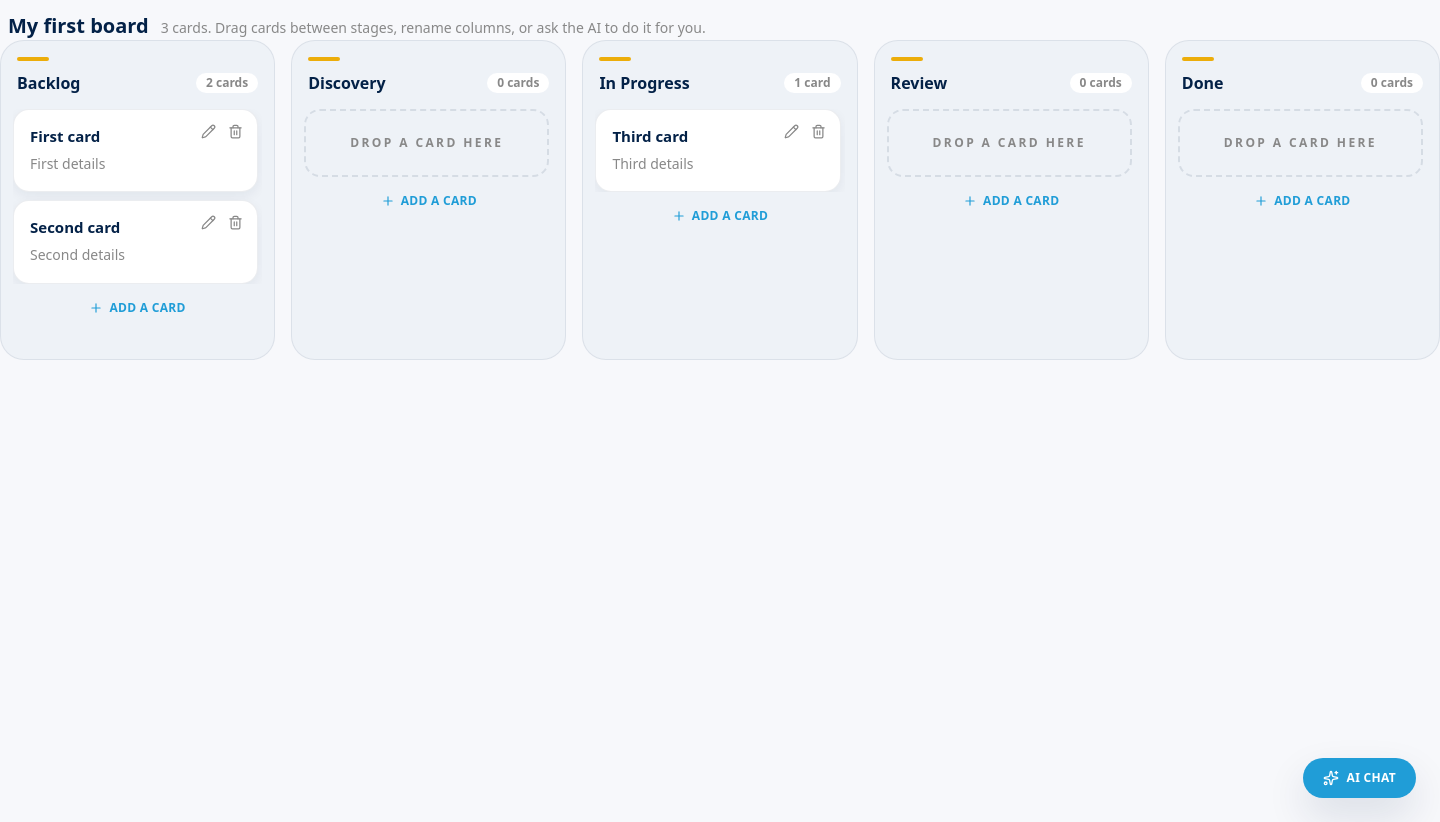
ChatSidebar › sends the history with each request
The image size is (1440, 822).
Click the button "AI chat" at (1359, 778), box [1303,758,1416,798]
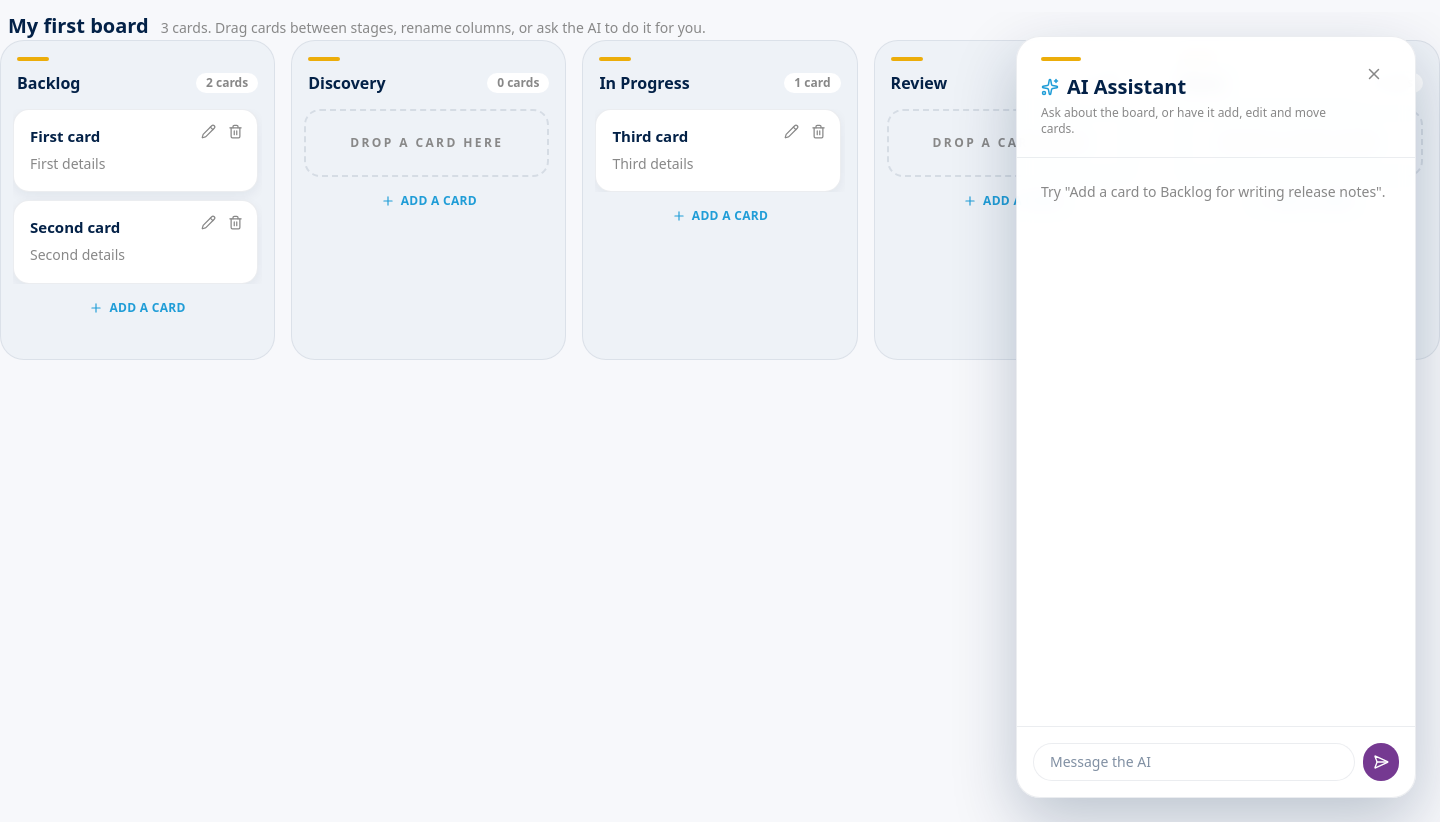
Type "First" into the field named "Chat message" at (1194, 762), box [1033,743,1355,781]
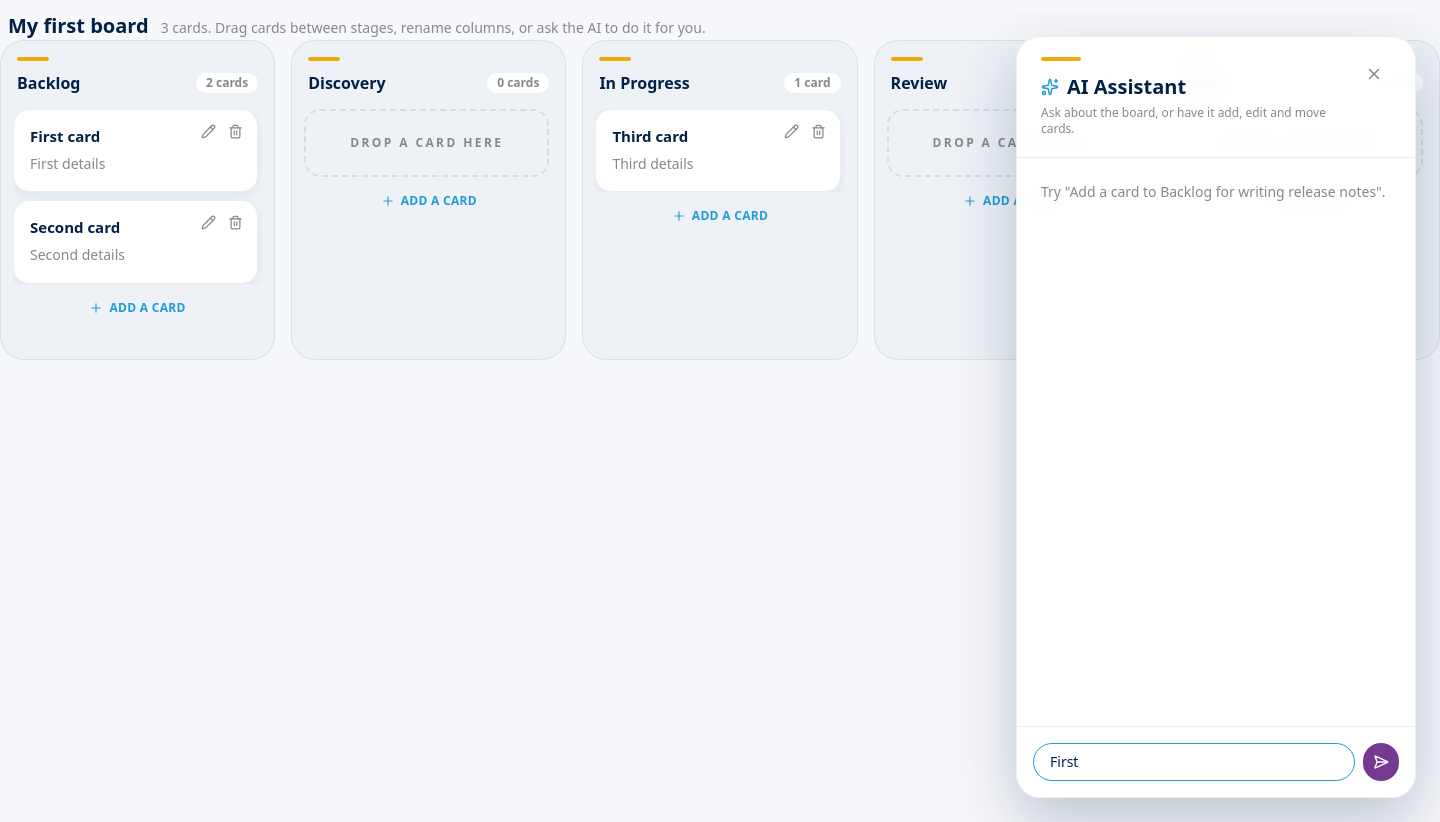
Click the button named "Send" at (1381, 762), box [1363,743,1399,781]
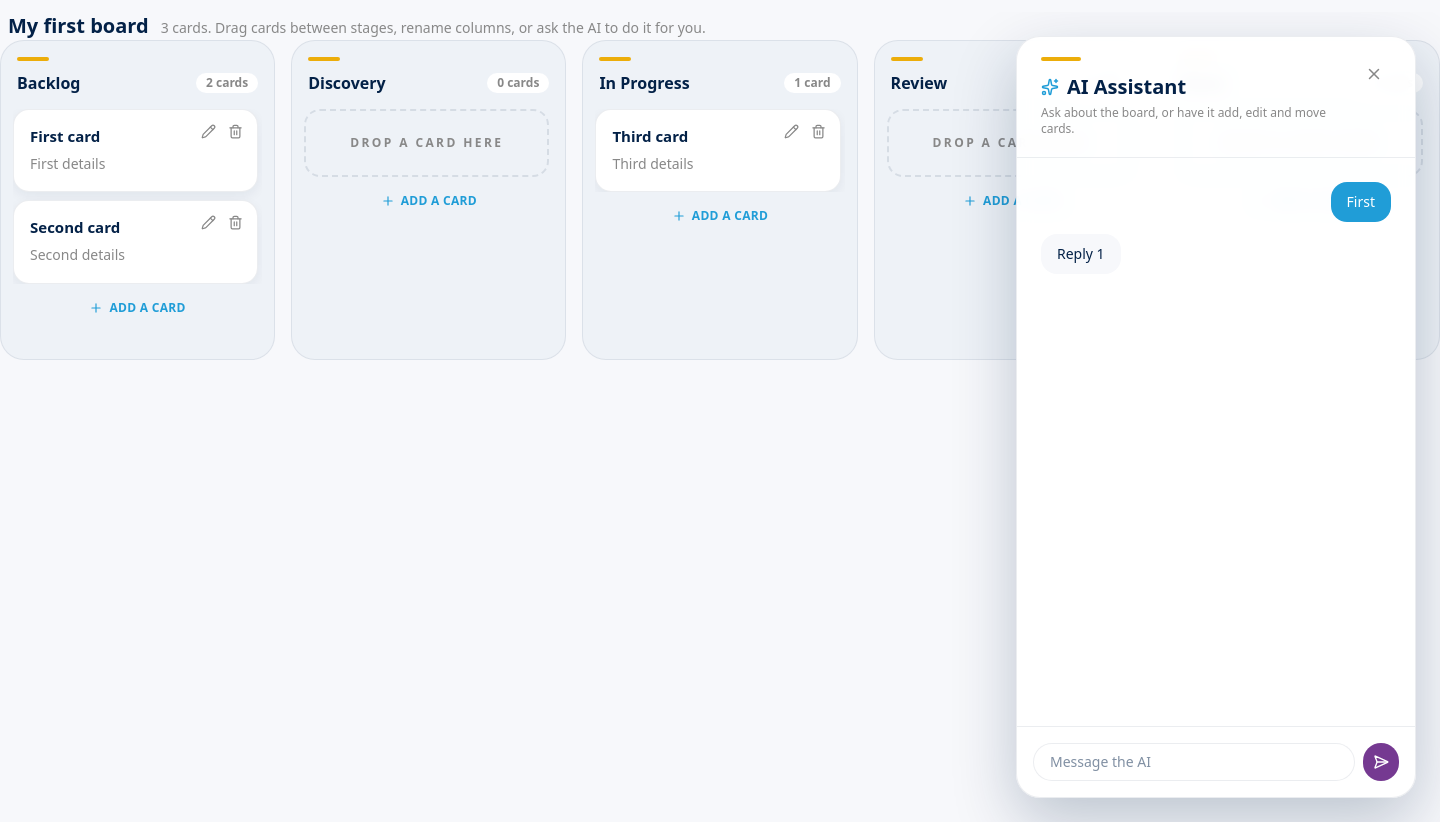
Now the text "Reply 1" is shown, box [1041,234,1121,274]
Type "Second" into the field named "Chat message" at (1194, 762), box [1033,743,1355,781]
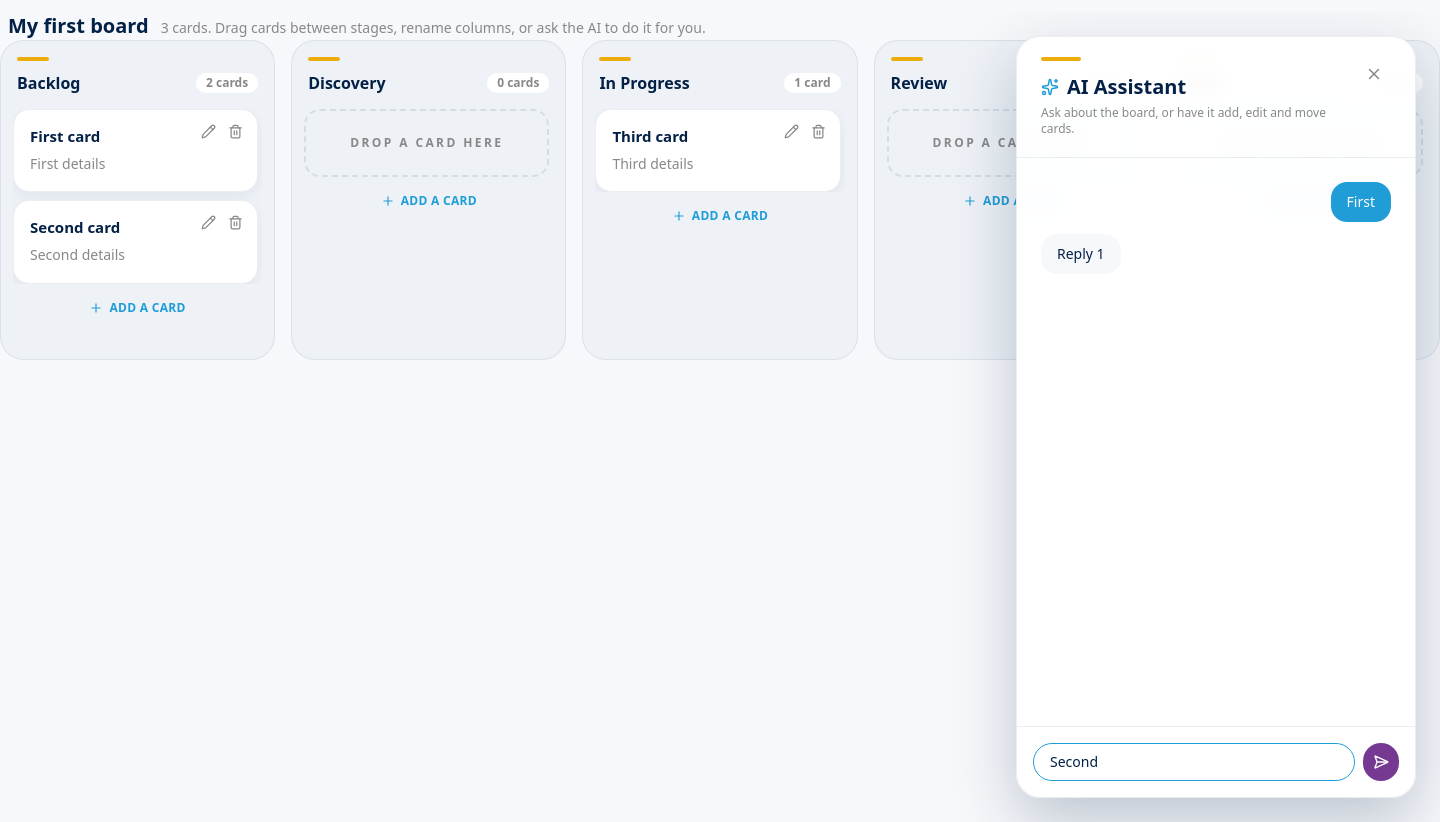
Click the button named "Send" at (1381, 762), box [1363,743,1399,781]
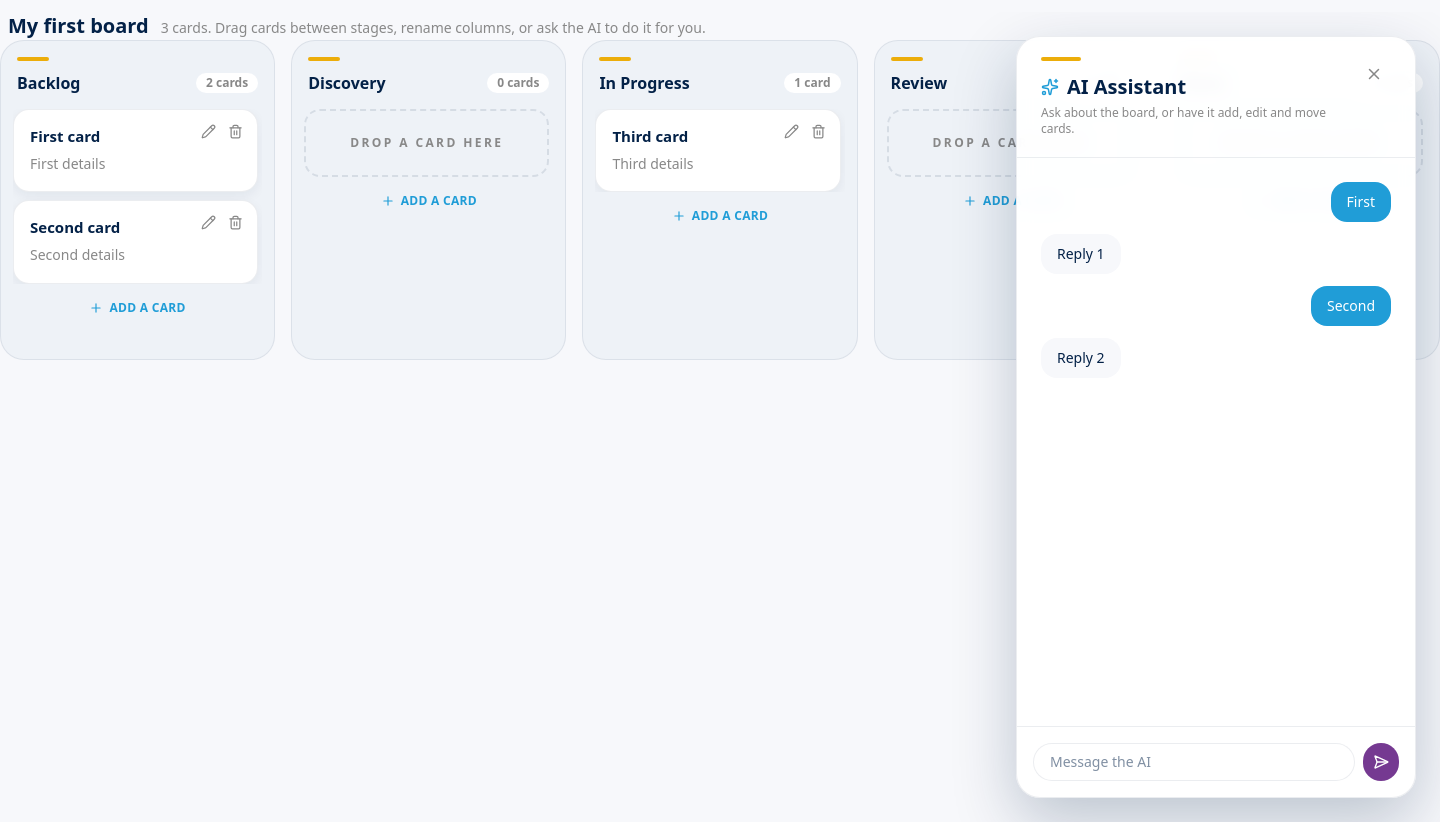
Now the text "Reply 2" is shown, box [1041,338,1121,378]
